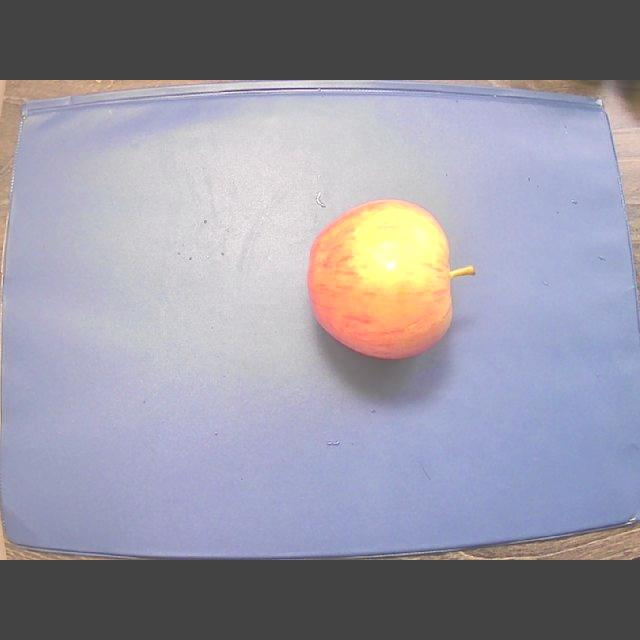manzana: (308, 199, 474, 358)
